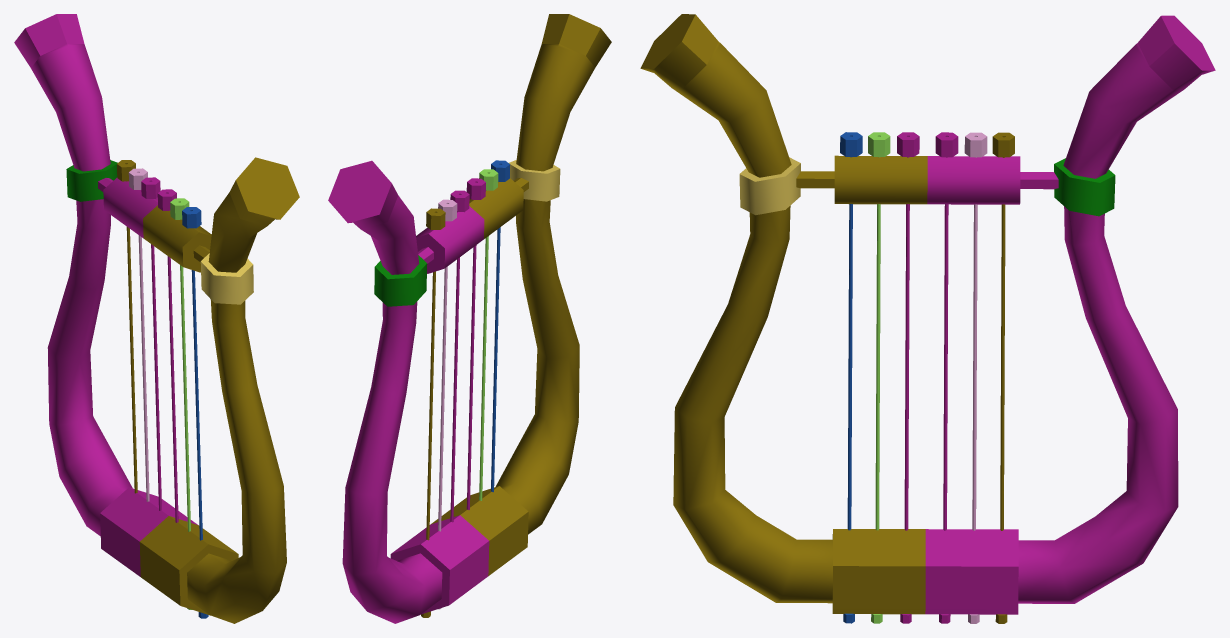
The picture shows the model from 3 angles, left to right: view 1: azimuth 30°, elevation 25°; view 2: azimuth 150°, elevation 25°; view 3: azimuth 270°, elevation 25°; orthographic projection. The views are drawn at different scales.
Parts seen in each view (by area): view 1: Group_001, Group_003, Group_002, Gruppe_39_001, Gruppe_39_006, Gruppe_39_005, Gruppe_39_002, Gruppe_39_003, Gruppe_39_004, Group_004; view 2: Group_003, Group_001, Group_004, Gruppe_39_004, Gruppe_39_003, Gruppe_39_005, Gruppe_39_006, Gruppe_39_002, Gruppe_39_001, Group_002; view 3: Group_003, Group_001, Group_004, Group_002, Gruppe_39_006, Gruppe_39_005, Gruppe_39_004, Gruppe_39_002, Gruppe_39_003, Gruppe_39_001.
Boxes of the visible parts, x1,y1,x2,y2 form: Group_001: (139,157,299,623); Group_003: (14,14,198,576); Group_002: (200,253,253,304); Gruppe_39_001: (182,207,208,618); Gruppe_39_006: (141,177,161,510); Gruppe_39_005: (128,168,149,501); Gruppe_39_002: (170,198,192,609); Gruppe_39_003: (157,189,178,522); Gruppe_39_004: (117,160,137,493); Group_004: (66,160,117,201); Group_003: (328,160,489,623); Group_001: (430,14,611,575); Group_004: (374,255,427,306); Gruppe_39_004: (421,208,445,617); Gruppe_39_003: (466,178,485,509); Gruppe_39_005: (438,199,457,609); Gruppe_39_006: (450,190,469,522); Gruppe_39_002: (479,169,498,500); Gruppe_39_001: (491,160,510,492); Group_002: (509,160,560,201); Group_003: (925,15,1215,614); Group_001: (640,14,927,614); Group_004: (1054,158,1115,216); Group_002: (739,157,800,215); Gruppe_39_006: (935,132,958,623); Gruppe_39_005: (964,132,987,623); Gruppe_39_004: (992,132,1014,623); Gruppe_39_002: (868,132,890,623); Gruppe_39_003: (897,132,919,623); Gruppe_39_001: (840,132,862,623).
Bounding box in the file's own units: 65.39 × 464 × 403.
